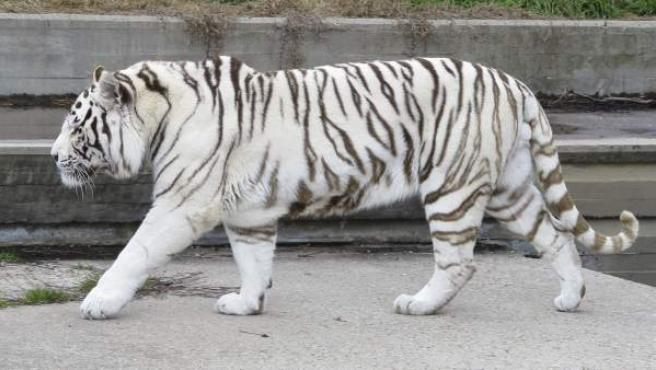Tigrew: (40, 43, 645, 336)
